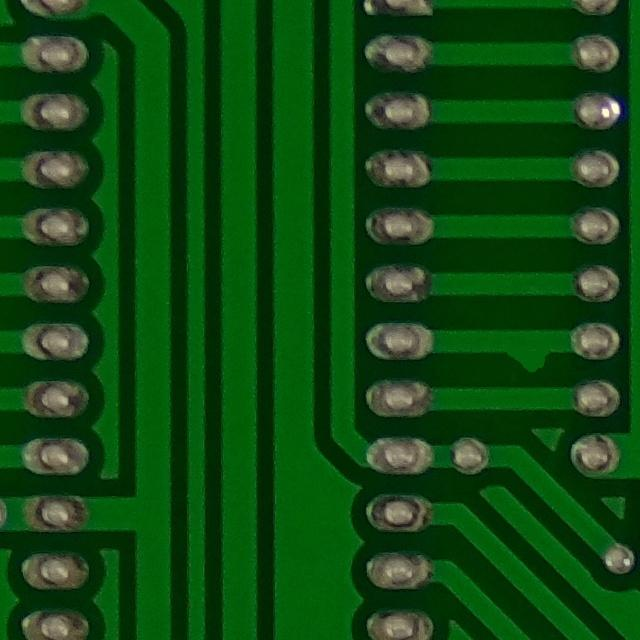spur: (483, 322, 562, 383)
